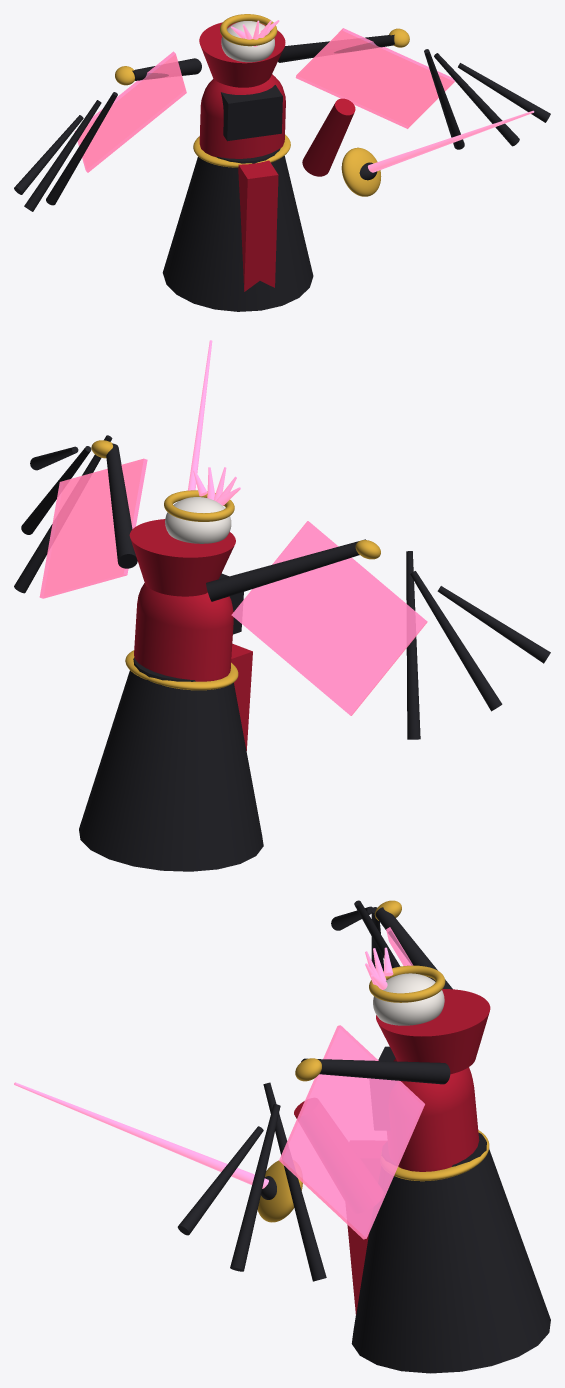
Rendered from jefe_maestra_sanguinaria.glb.
3 renders of one model, top to bottom at view 1: azimuth 30°, elevation 25°; view 2: azimuth 150°, elevation 25°; view 3: azimuth 270°, elevation 25°, orthographic. The views are drawn at different scales.
Visible parts, largest first — view 1: _MeshInstance3D_25, _MeshInstance3D_24, _MeshInstance3D_18, _MeshInstance3D_26, _MeshInstance3D_2, _MeshInstance3D_3, _MeshInstance3D_5, _MeshInstance3D_27, _MeshInstance3D_30, _MeshInstance3D_6, _MeshInstance3D_19, _MeshInstance3D_15 (+9 smaller); view 2: _MeshInstance3D_25, _MeshInstance3D_18, _MeshInstance3D_24, _MeshInstance3D_2, _MeshInstance3D_5, _MeshInstance3D_13, _MeshInstance3D_6, _MeshInstance3D_19, _MeshInstance3D_16, _MeshInstance3D_15, _MeshInstance3D_17, _MeshInstance3D_26 (+5 smaller); view 3: _MeshInstance3D_25, _MeshInstance3D_24, _MeshInstance3D_2, _MeshInstance3D_5, _MeshInstance3D_19, _MeshInstance3D_6, _MeshInstance3D_21, _MeshInstance3D_22, _MeshInstance3D_31, _MeshInstance3D_23, _MeshInstance3D_7, _MeshInstance3D_30 (+4 smaller).
Part boxes in pixels (x1,y1,x2,y2): _MeshInstance3D_25: (162,148,313,311); _MeshInstance3D_24: (295,28,454,128); _MeshInstance3D_18: (74,51,186,172); _MeshInstance3D_26: (238,160,278,291); _MeshInstance3D_2: (199,74,285,158); _MeshInstance3D_3: (221,85,282,141); _MeshInstance3D_5: (199,22,285,87); _MeshInstance3D_27: (302,98,355,176); _MeshInstance3D_30: (341,147,381,196); _MeshInstance3D_6: (221,21,274,62); _MeshInstance3D_19: (278,34,394,62); _MeshInstance3D_15: (46,92,117,205); _MeshInstance3D_25: (79,657,263,871); _MeshInstance3D_18: (231,521,427,715); _MeshInstance3D_24: (39,458,147,598); _MeshInstance3D_2: (134,583,233,681); _MeshInstance3D_5: (129,519,235,596); _MeshInstance3D_13: (206,539,365,601); _MeshInstance3D_6: (165,497,231,543); _MeshInstance3D_19: (106,443,137,568); _MeshInstance3D_16: (410,571,502,711); _MeshInstance3D_15: (406,551,420,739); _MeshInstance3D_17: (437,586,550,663); _MeshInstance3D_26: (231,643,252,750); _MeshInstance3D_25: (351,1132,550,1373); _MeshInstance3D_24: (279,1025,424,1239); _MeshInstance3D_2: (393,1058,479,1171); _MeshInstance3D_5: (376,989,490,1074); _MeshInstance3D_19: (301,1058,450,1084); _MeshInstance3D_6: (373,973,444,1025); _MeshInstance3D_21: (263,1082,326,1281); _MeshInstance3D_22: (230,1104,280,1271); _MeshInstance3D_31: (14,1082,268,1188); _MeshInstance3D_23: (177,1126,263,1235); _MeshInstance3D_7: (369,965,445,1002); _MeshInstance3D_30: (257,1160,302,1222).
Size of the model in its own units: 3.07 by 1.76 by 2.24.
